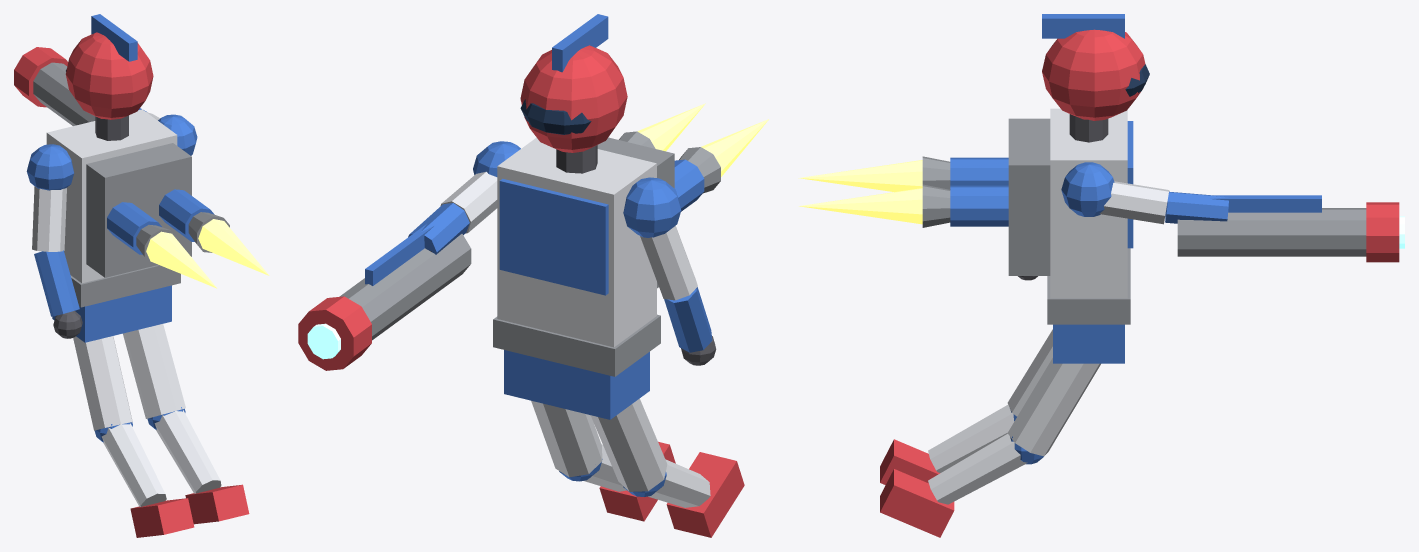
Rendered from harrier.glb.
The picture shows the model from 3 angles, left to right: view 1: azimuth 30°, elevation 25°; view 2: azimuth 150°, elevation 25°; view 3: azimuth 270°, elevation 25°; orthographic projection. The views are drawn at different scales.
Visible parts, largest first — view 1: PackBody, Torso, Helmet, ThighR, ThighL, Hips, ShinR, ShinL, Belt, UpperArmL, CannonBody, ForeArmL (+14 smaller); view 2: Torso, Chest, Helmet, Hips, CannonBody, Belt, ThighL, ThighR, BootL, CannonMuzzle, ShoulderL, UpperArmL (+17 smaller); view 3: Torso, CannonBody, Helmet, PackBody, ThighR, ShinR, BootR, Hips, Belt, PackEngineR, ShinL, HFlameR (+13 smaller).
Part boxes in pixels (left/top/right/bottom): PackBody: left=86, top=143, right=191, bottom=277; Torso: left=46, top=109, right=177, bottom=283; Helmet: left=65, top=32, right=153, bottom=119; ThighR: left=123, top=324, right=185, bottom=418; ThighL: left=73, top=336, right=132, bottom=430; Hips: left=52, top=285, right=171, bottom=342; ShinR: left=154, top=410, right=221, bottom=493; ShinL: left=101, top=423, right=166, bottom=506; Belt: left=70, top=265, right=180, bottom=307; UpperArmL: left=32, top=186, right=66, bottom=251; CannonBody: left=33, top=62, right=95, bottom=125; ForeArmL: left=34, top=250, right=79, bottom=316; Torso: left=497, top=137, right=656, bottom=347; Chest: left=499, top=178, right=608, bottom=295; Helmet: left=520, top=45, right=627, bottom=152; Hips: left=504, top=350, right=649, bottom=419; CannonBody: left=339, top=234, right=471, bottom=340; Belt: left=493, top=314, right=660, bottom=376; ThighL: left=590, top=398, right=667, bottom=491; ThighR: left=531, top=400, right=602, bottom=477; BootL: left=666, top=452, right=744, bottom=537; CannonMuzzle: left=298, top=296, right=371, bottom=370; ShoulderL: left=623, top=177, right=681, bottom=237; UpperArmL: left=640, top=226, right=697, bottom=300; Torso: left=1050, top=108, right=1127, bottom=298; CannonBody: left=1177, top=208, right=1366, bottom=256; Helmet: left=1042, top=29, right=1145, bottom=120; PackBody: left=1008, top=118, right=1050, bottom=275; ThighR: left=1007, top=358, right=1100, bottom=456; ShinR: left=928, top=433, right=1027, bottom=504; BootR: left=880, top=469, right=954, bottom=537; Hips: left=1053, top=324, right=1124, bottom=363; Belt: left=1047, top=248, right=1130, bottom=324; PackEngineR: left=950, top=185, right=1008, bottom=226; ShinL: left=928, top=405, right=1014, bottom=472; HFlameR: left=798, top=188, right=922, bottom=224.
Bounding box in the file's own units: 0.8053 × 1.99 × 2.19.
